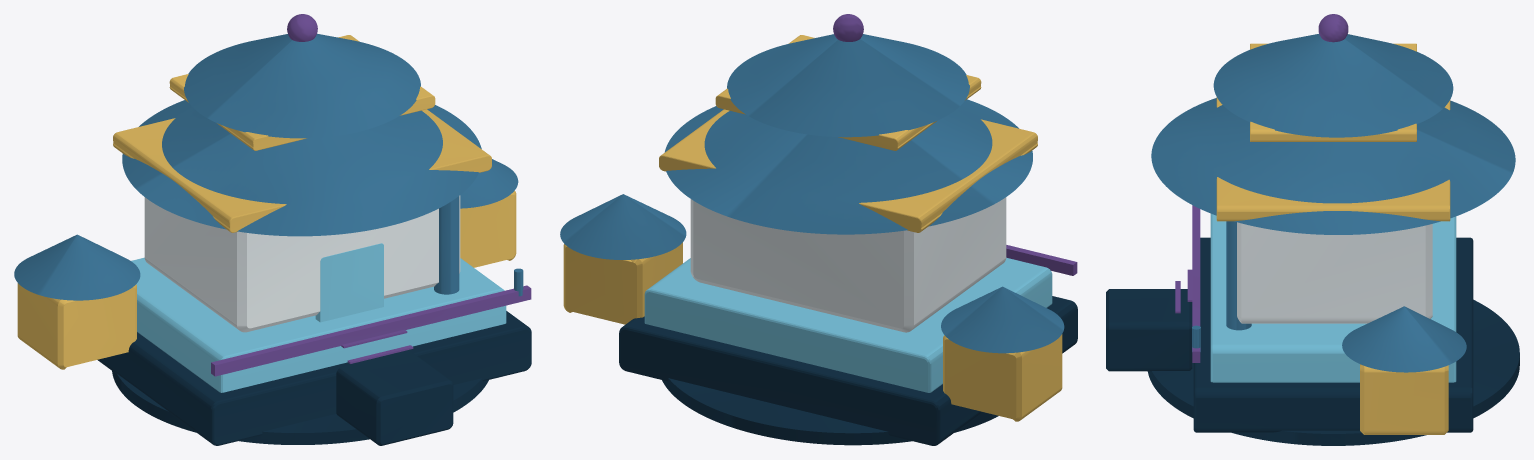
Rendered from 0744_先秦图鉴_夏王城宫殿.glb.
The picture shows the model from 3 angles, left to right: view 1: azimuth 30°, elevation 25°; view 2: azimuth 150°, elevation 25°; view 3: azimuth 270°, elevation 25°; orthographic projection.
Visible parts, largest first — view 1: card_0744; view 2: card_0744; view 3: card_0744.
Part boxes in pixels (x1=…): card_0744: x1=14, y1=14, x2=531, y2=445; card_0744: x1=560, y1=14, x2=1077, y2=445; card_0744: x1=1106, y1=14, x2=1519, y2=445.
Size of the model in its own units: 1.46 by 1 by 1.07.
